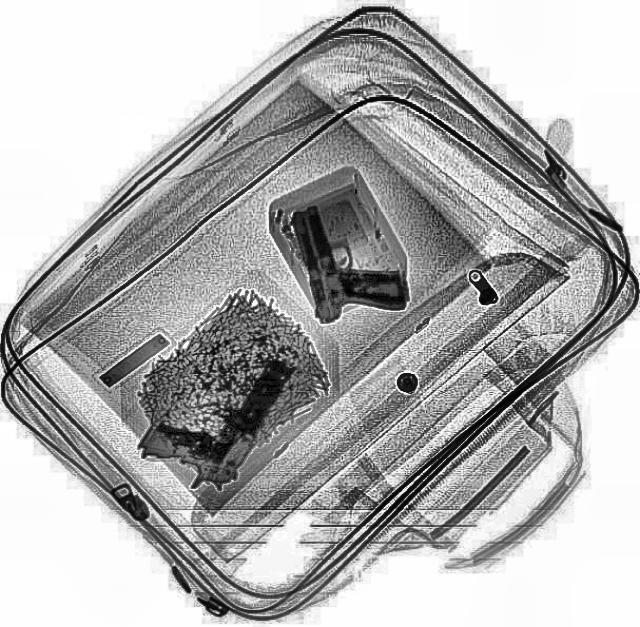Gun: (129, 326, 301, 502), (284, 188, 411, 328)
